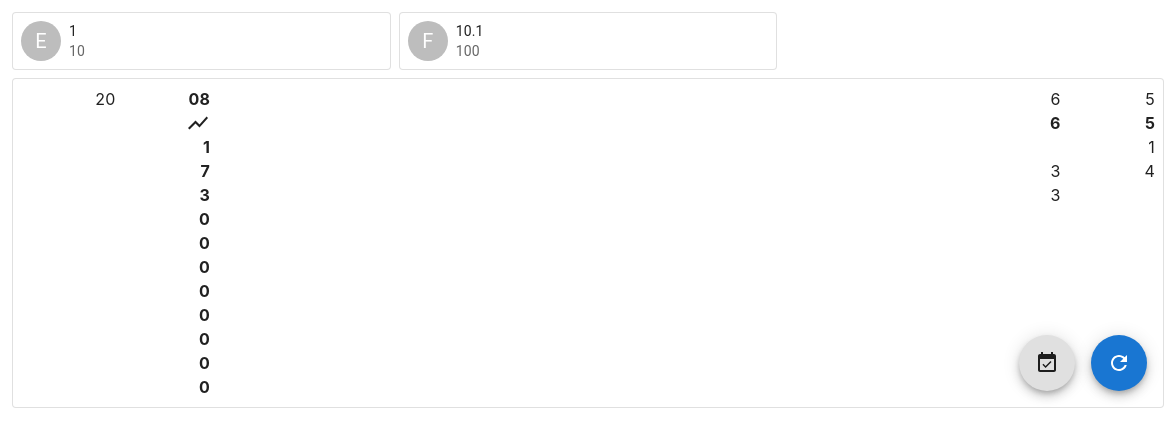
Test case: renders short levels filter by today
This screenshot has width=1164, height=425.
Step 1. Click the button named "today" → {"x": 1047, "y": 363}, box top-left (1019, 335), bottom-right (1075, 391)
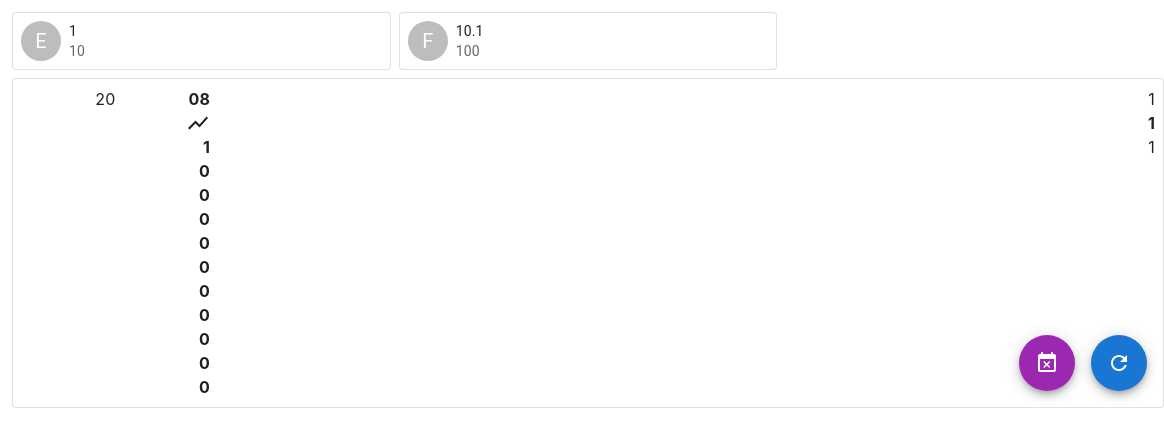
Check: the text with test id "M-2008-9" reads "1", box top-left (1148, 89), bottom-right (1155, 109)
Check: the text with test id "S-9" reads "1", box top-left (1148, 113), bottom-right (1155, 133)
Check: the element with test id "D-1" reads "0", box top-left (199, 161), bottom-right (210, 181)
Step 2. Click the button named "today" → {"x": 1047, "y": 363}, box top-left (1019, 335), bottom-right (1075, 391)
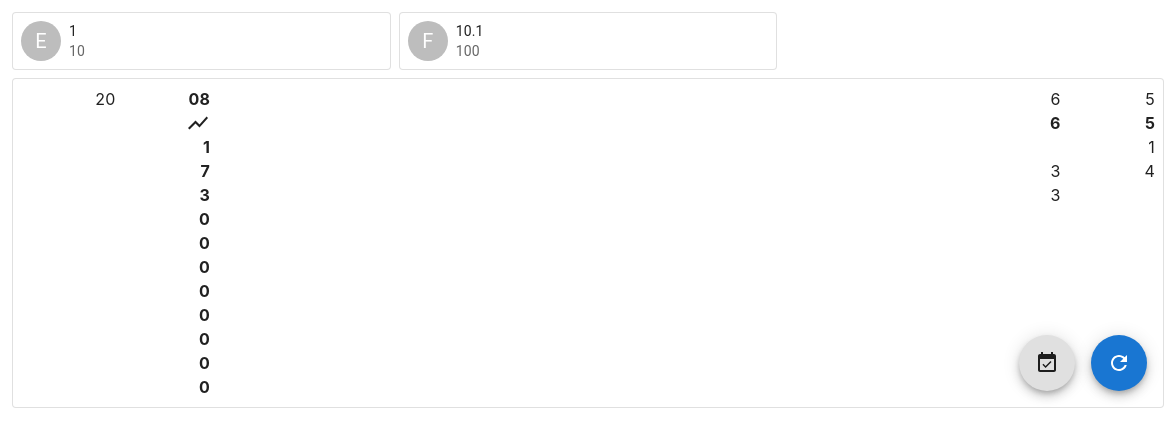
Check: the text with test id "M-2008-8" reads "6", box top-left (1050, 89), bottom-right (1060, 109)
Check: the text with test id "M-2008-9" reads "5", box top-left (1145, 89), bottom-right (1155, 109)
Check: the text with test id "S-8" reads "6", box top-left (1050, 113), bottom-right (1060, 133)
